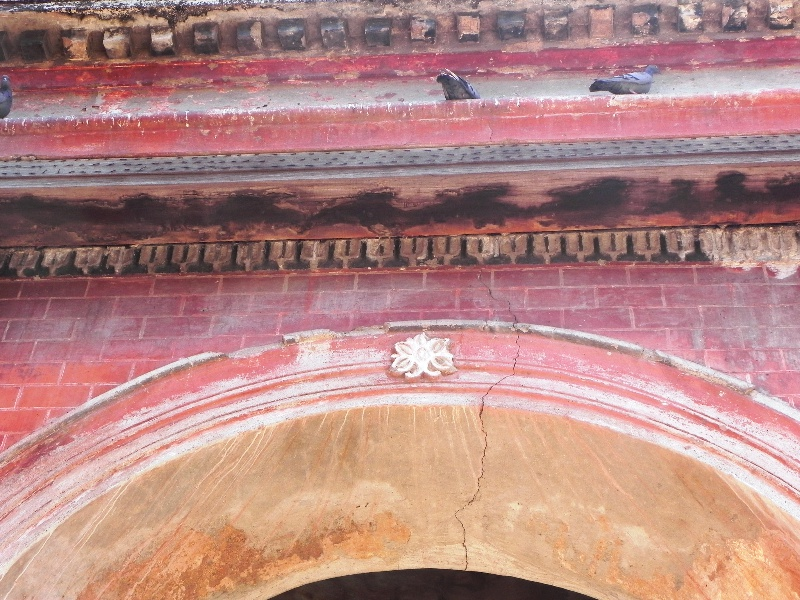Crack: (446, 387, 518, 564), (482, 280, 523, 381)
